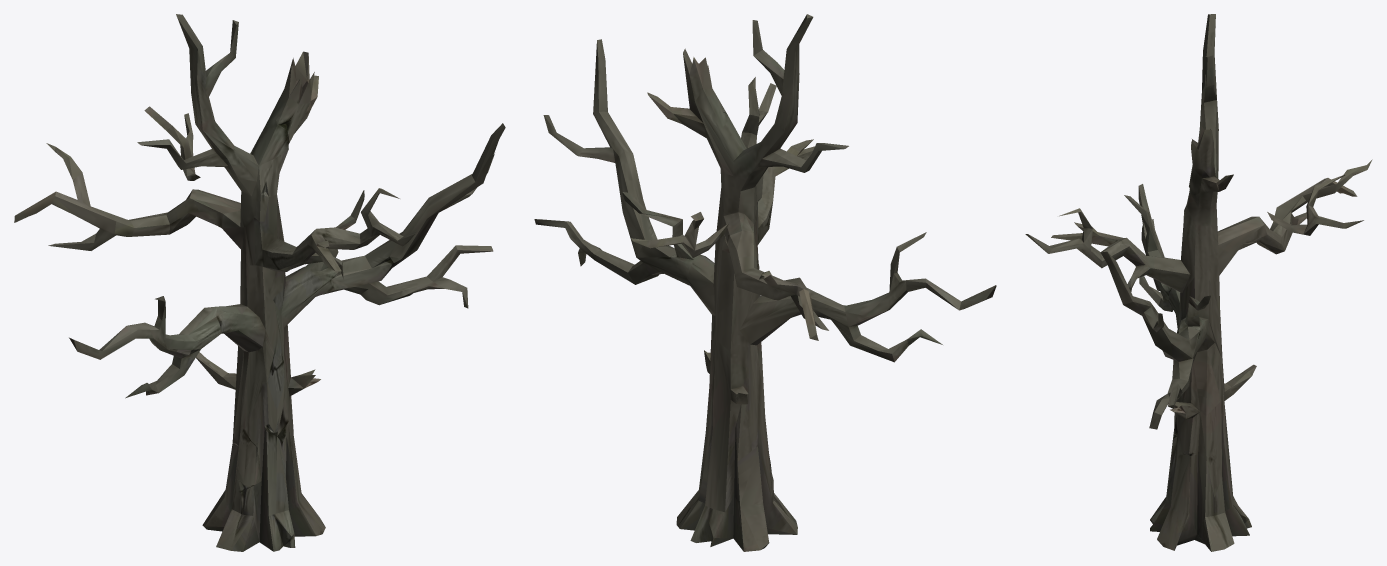
File: bg_swamp_dead_1_lod0.glb
3 views of the same model, side by side, from view 1: azimuth 30°, elevation 25°; view 2: azimuth 150°, elevation 25°; view 3: azimuth 270°, elevation 25° (orthographic). The views are drawn at different scales.
Visible parts, largest first — view 1: body; view 2: body; view 3: body.
Boxes of the visible parts, x1,y1,x2,y2 form: body: (14,14,505,551); body: (534,14,996,551); body: (1025,14,1372,551).
Bounding box in the file's own units: 3.91 × 4.5 × 2.94.
Materials: 1 (1 with a texture image).
